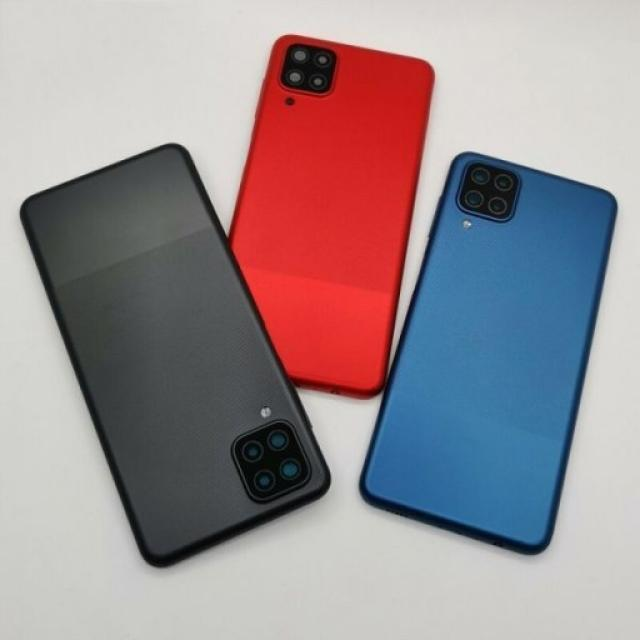phone: (20, 141, 334, 573), (354, 146, 618, 556), (212, 30, 438, 401)
